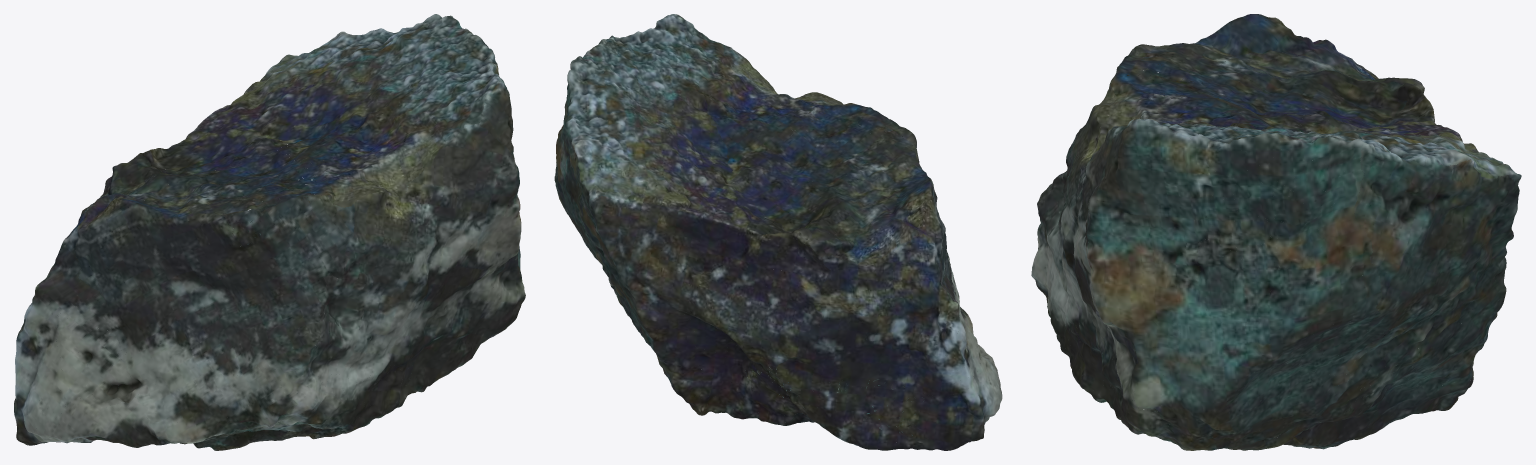
File: bornita.glb
The picture shows the model from 3 angles, left to right: view 1: azimuth 30°, elevation 25°; view 2: azimuth 150°, elevation 25°; view 3: azimuth 270°, elevation 25°; orthographic projection. The views are drawn at different scales.
Visible parts, largest first — view 1: Model, Model_material0_0.003, Model_material0_0.002, Model_material0_0.001, Model_material0_0.004; view 2: Model_material0_0.002, Model_material0_0.001, Model, Model_material0_0.003, Model_material0_0.004; view 3: Model_material0_0.001, Model, Model_material0_0.003, Model_material0_0.002, Model_material0_0.004.
Part boxes in pixels (box(x1,y1,x2,y2)): Model: box(74, 106, 525, 442); Model_material0_0.003: box(16, 14, 525, 450); Model_material0_0.002: box(14, 14, 500, 445); Model_material0_0.001: box(14, 14, 520, 446); Model_material0_0.004: box(218, 159, 343, 246); Model_material0_0.002: box(556, 14, 1001, 450); Model_material0_0.001: box(554, 35, 1002, 450); Model: box(613, 45, 977, 415); Model_material0_0.003: box(566, 14, 992, 450); Model_material0_0.004: box(745, 106, 924, 433); Model_material0_0.001: box(1050, 92, 1514, 450); Model: box(1036, 14, 1506, 450); Model_material0_0.003: box(1031, 14, 1506, 449); Model_material0_0.002: box(1065, 71, 1521, 413); Model_material0_0.004: box(1119, 44, 1230, 108).
Size of the model in its own units: 0.7059 by 0.466 by 0.5143.
1 material, 1 textured.
